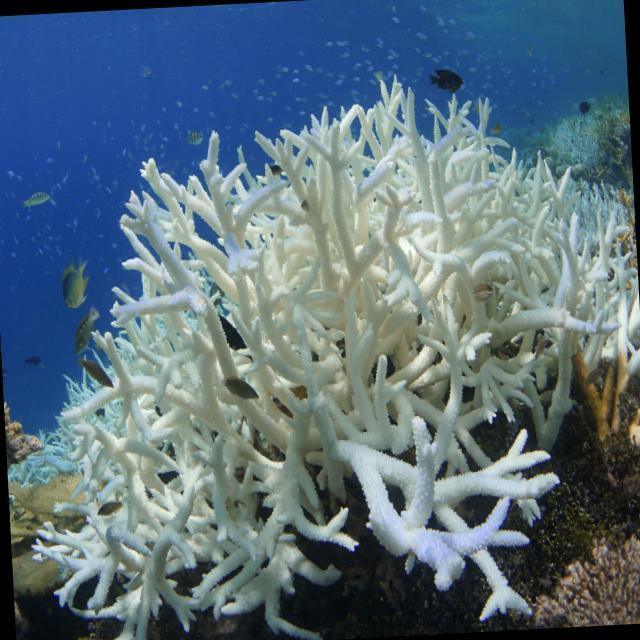Bleached Coral: (17, 82, 624, 632)
